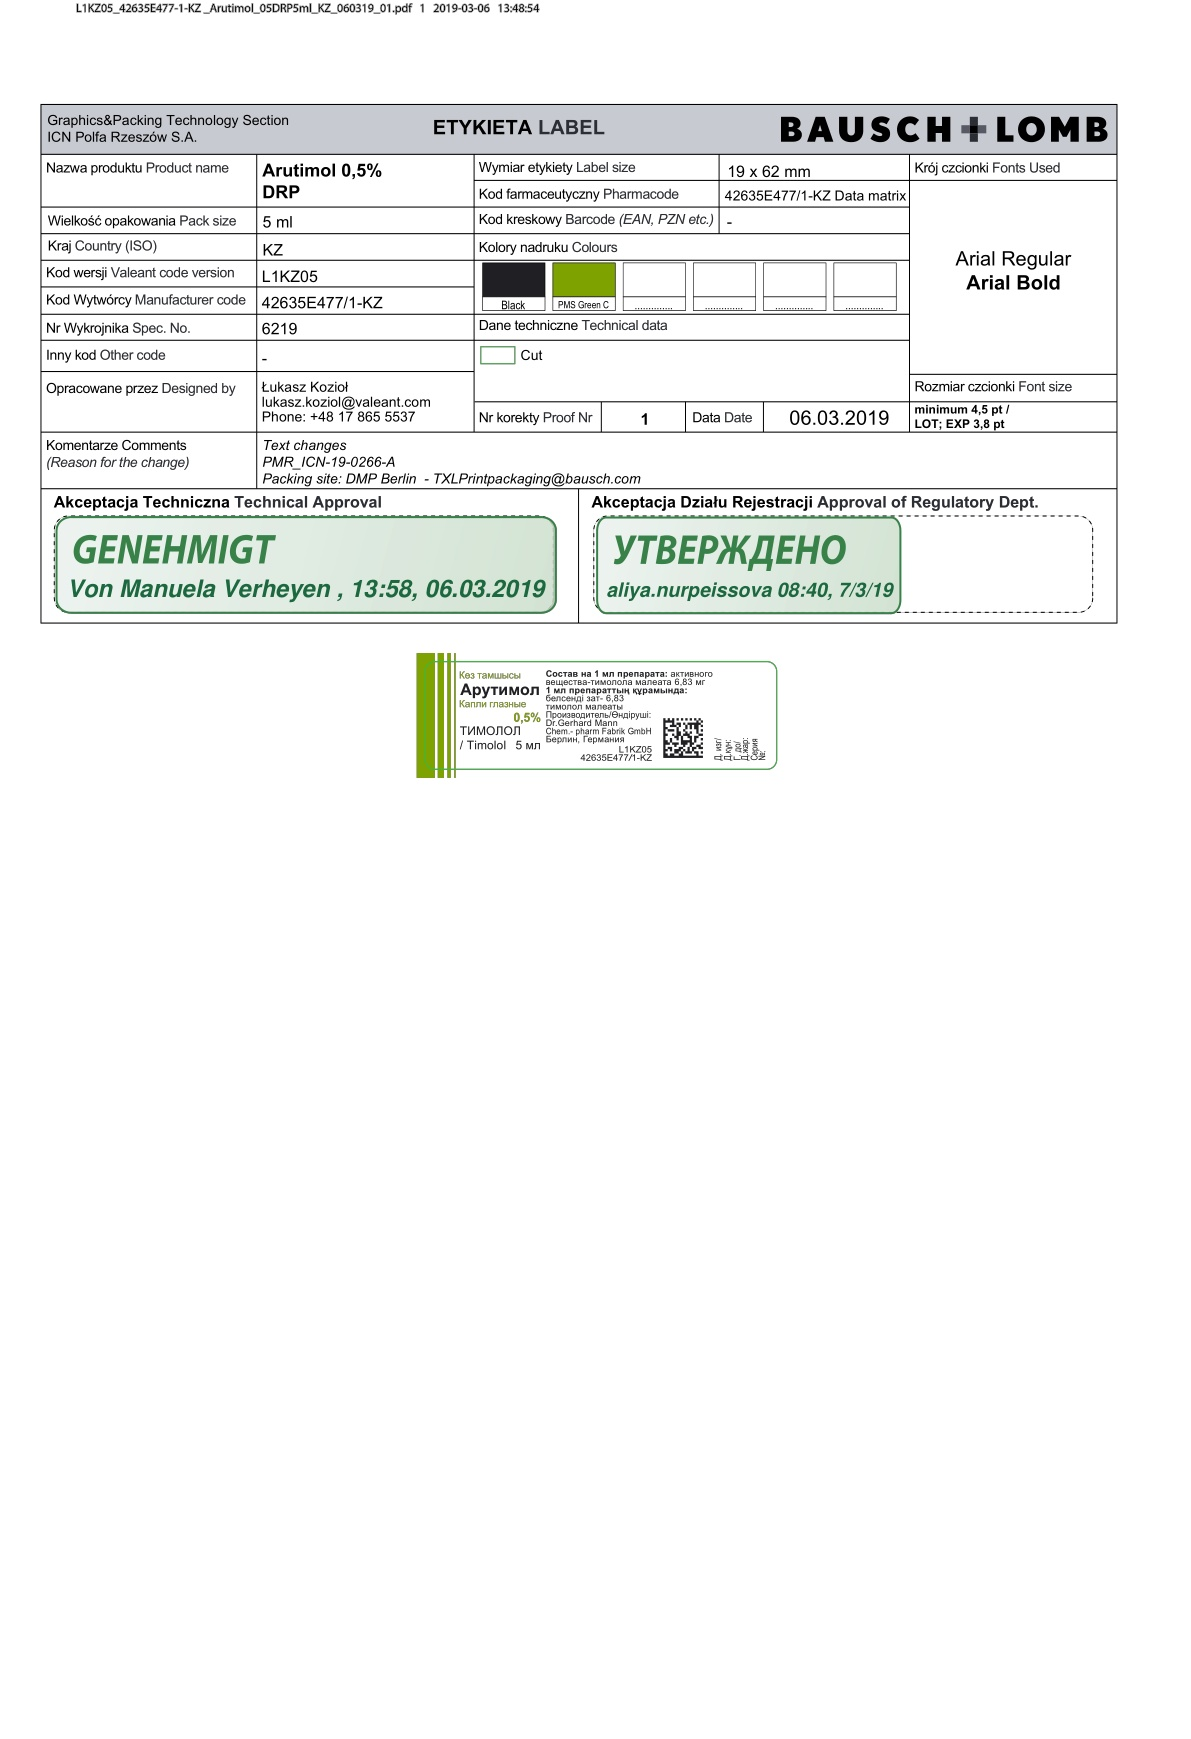merged_cells: (40, 103, 1118, 625)
